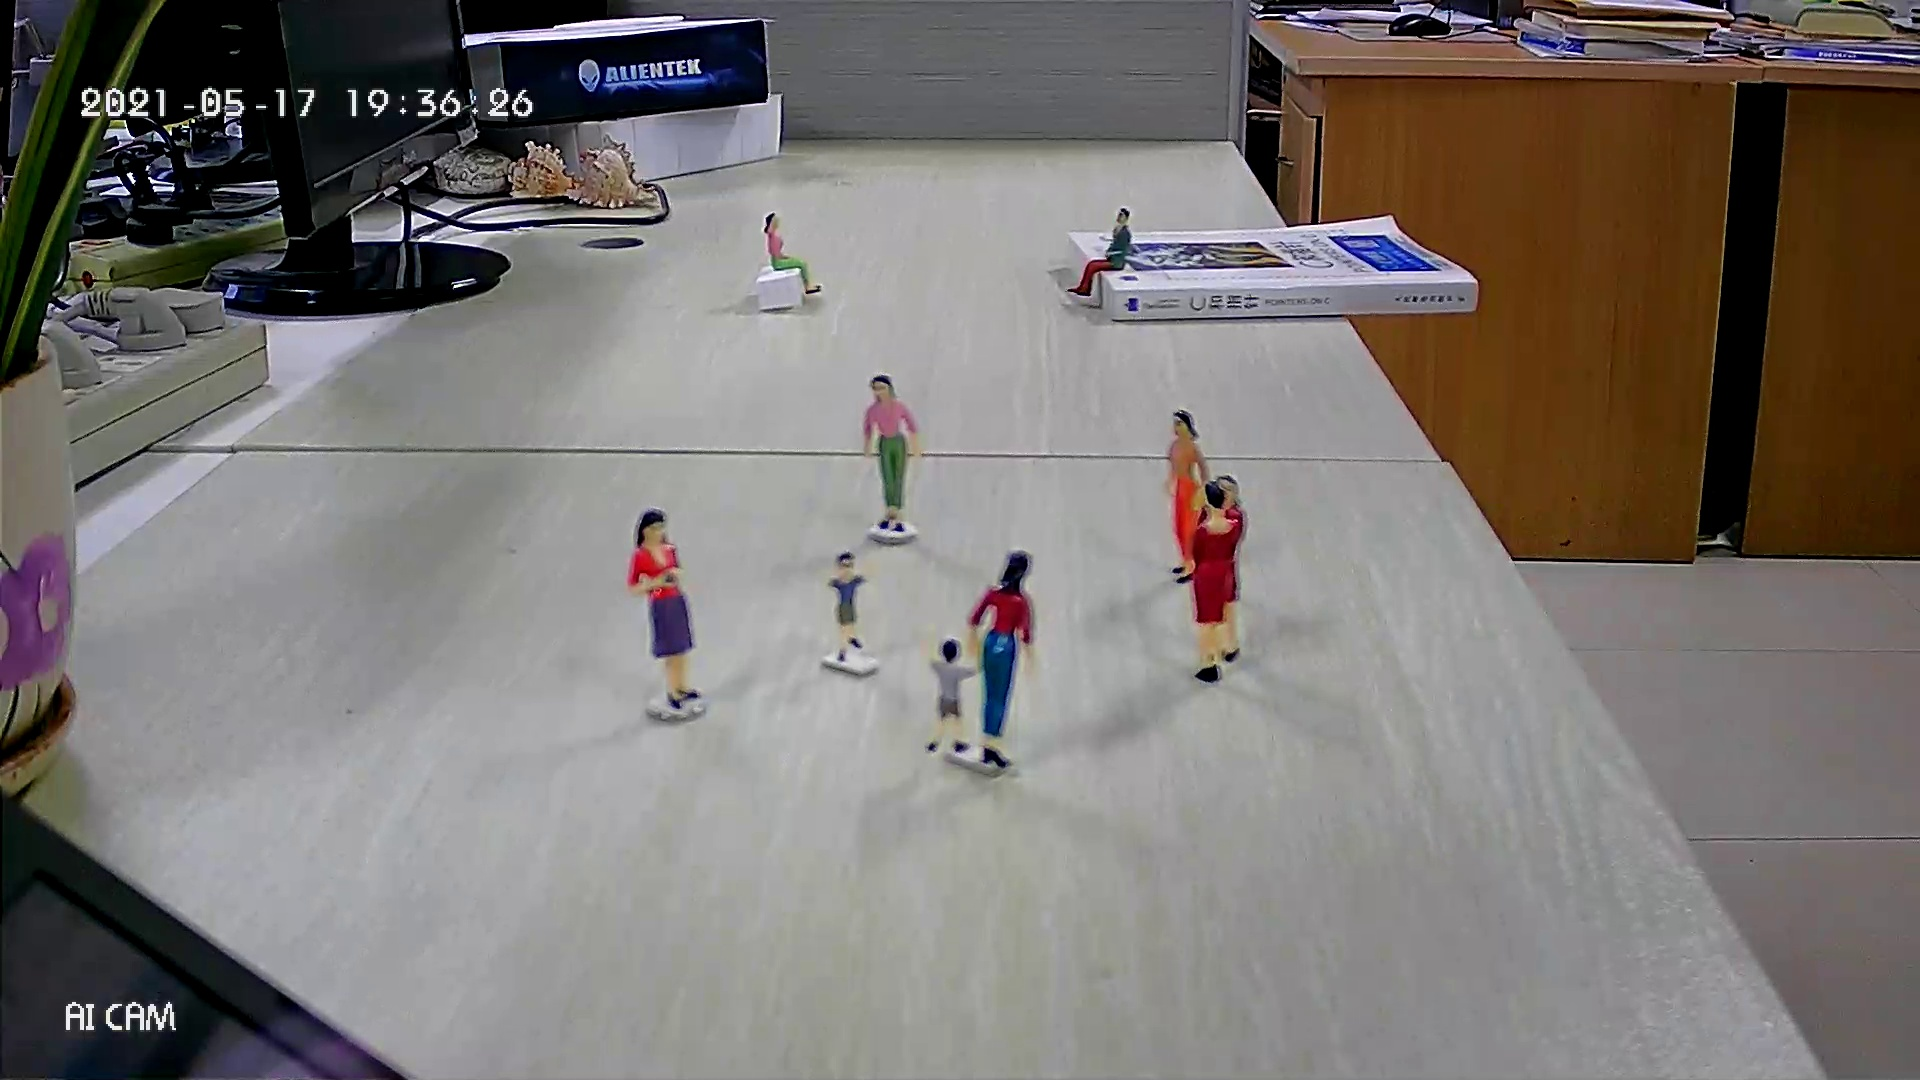person: (962, 548, 1046, 774), (624, 507, 703, 711), (1190, 481, 1241, 684), (860, 372, 923, 533), (1196, 472, 1247, 663), (1159, 406, 1211, 584), (918, 628, 983, 754), (816, 552, 879, 664), (1064, 206, 1136, 299), (761, 207, 823, 297)
